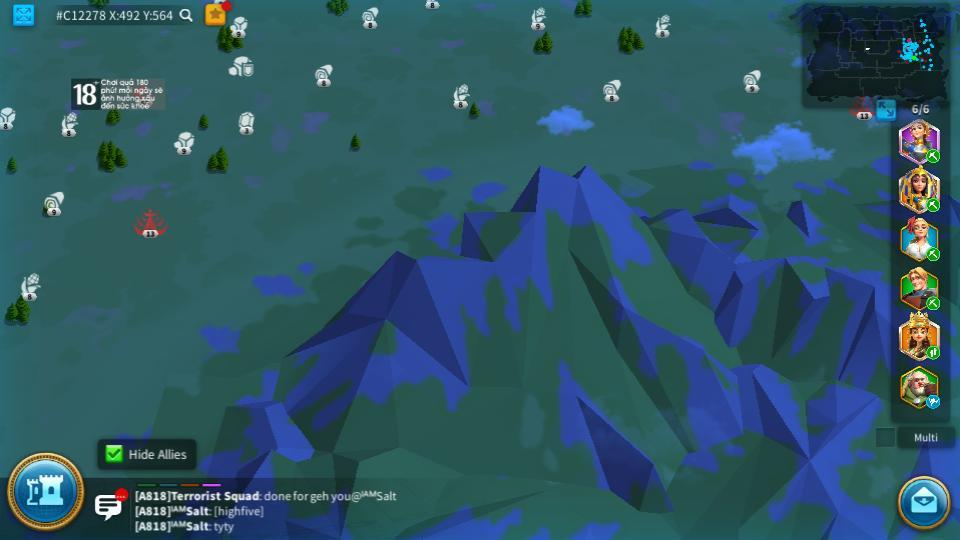march_idle: (925, 396, 942, 408)
march_marching: (925, 197, 941, 212), (924, 345, 939, 359), (925, 149, 941, 162), (925, 297, 942, 308), (925, 250, 942, 261)
